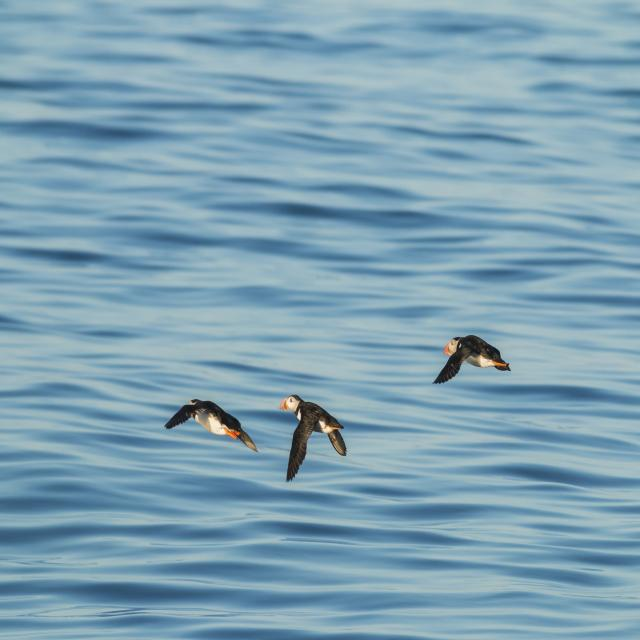bird: (276, 394, 348, 481), (166, 402, 262, 452), (430, 338, 511, 387)
